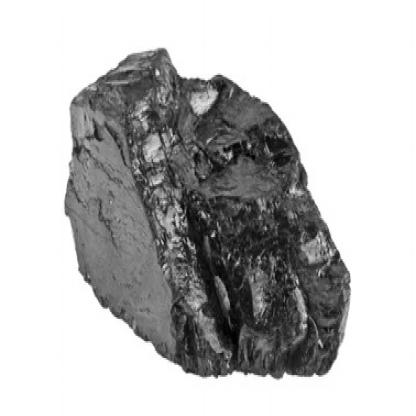Sedimentary_coal: (58, 45, 360, 386)
